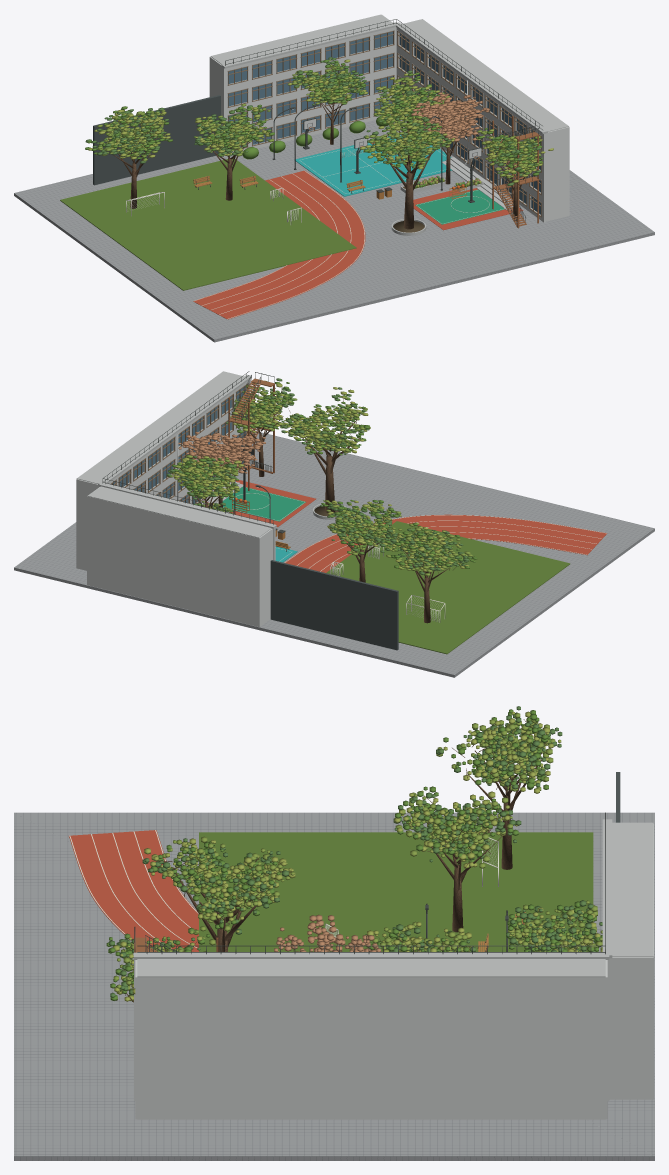
Rendered from campus-courtyard.glb.
The picture shows the model from 3 angles, top to bottom: view 1: azimuth 30°, elevation 25°; view 2: azimuth 150°, elevation 25°; view 3: azimuth 270°, elevation 25°; orthographic projection. The views are drawn at different scales.
Parts seen in each view (by area): view 1: SITE-PAVERS, LAWN-L, BLD-B-SHELL, BLD-A-SHELL, TRACK-ARC, BACKDROP-WEST-FRAGMENT, COURT-NE, TREE-01, TREE-06, TREE-02, TREE-07, TREE-04 (+6 smaller); view 2: SITE-PAVERS, BLD-A-SHELL, LAWN-L, BACKDROP-WEST-FRAGMENT, BLD-B-SHELL, TRACK-ARC, TREE-01, TREE-06, TREE-02, TREE-03, TREE-05, TREE-04 (+3 smaller); view 3: BLD-B-SHELL, SITE-PAVERS, LAWN-L, BLD-A-SHELL, TRACK-ARC, TREE-01, TREE-02, TREE-06, TREE-07, TREE-03, TREE-05, TREE-04 (+1 smaller).
Part boxes in pixels (x1,y1,x2,y2): SITE-PAVERS: [14, 120, 654, 342]; LAWN-L: [60, 158, 356, 290]; BLD-B-SHELL: [395, 19, 569, 222]; BLD-A-SHELL: [209, 14, 397, 156]; TRACK-ARC: [193, 170, 365, 319]; BACKDROP-WEST-FRAGMENT: [93, 95, 220, 185]; COURT-NE: [295, 134, 452, 196]; TREE-01: [359, 113, 455, 229]; TREE-06: [85, 106, 172, 208]; TREE-02: [193, 103, 274, 200]; TREE-07: [287, 57, 367, 144]; TREE-04: [411, 92, 489, 184]; SITE-PAVERS: [14, 431, 654, 677]; BLD-A-SHELL: [87, 482, 276, 626]; LAWN-L: [326, 521, 570, 654]; BACKDROP-WEST-FRAGMENT: [270, 560, 398, 650]; BLD-B-SHELL: [76, 371, 251, 570]; TRACK-ARC: [285, 514, 607, 572]; TREE-01: [281, 387, 370, 512]; TREE-06: [379, 522, 477, 623]; TREE-02: [320, 500, 401, 582]; TREE-03: [166, 455, 244, 507]; TREE-05: [226, 378, 297, 476]; TREE-04: [178, 432, 265, 507]; BLD-B-SHELL: [133, 952, 609, 1119]; SITE-PAVERS: [14, 812, 654, 1160]; LAWN-L: [199, 832, 593, 951]; BLD-A-SHELL: [602, 819, 653, 1100]; TRACK-ARC: [69, 830, 198, 951]; TREE-01: [142, 836, 295, 951]; TREE-02: [393, 786, 521, 932]; TREE-06: [436, 706, 562, 869]; TREE-07: [506, 900, 602, 951]; TREE-03: [365, 921, 475, 951]; TREE-05: [106, 926, 215, 1002]; TREE-04: [274, 914, 381, 951].
Size of the model in its own units: 66 by 15.62 by 52.
25 materials, 2 textured.
